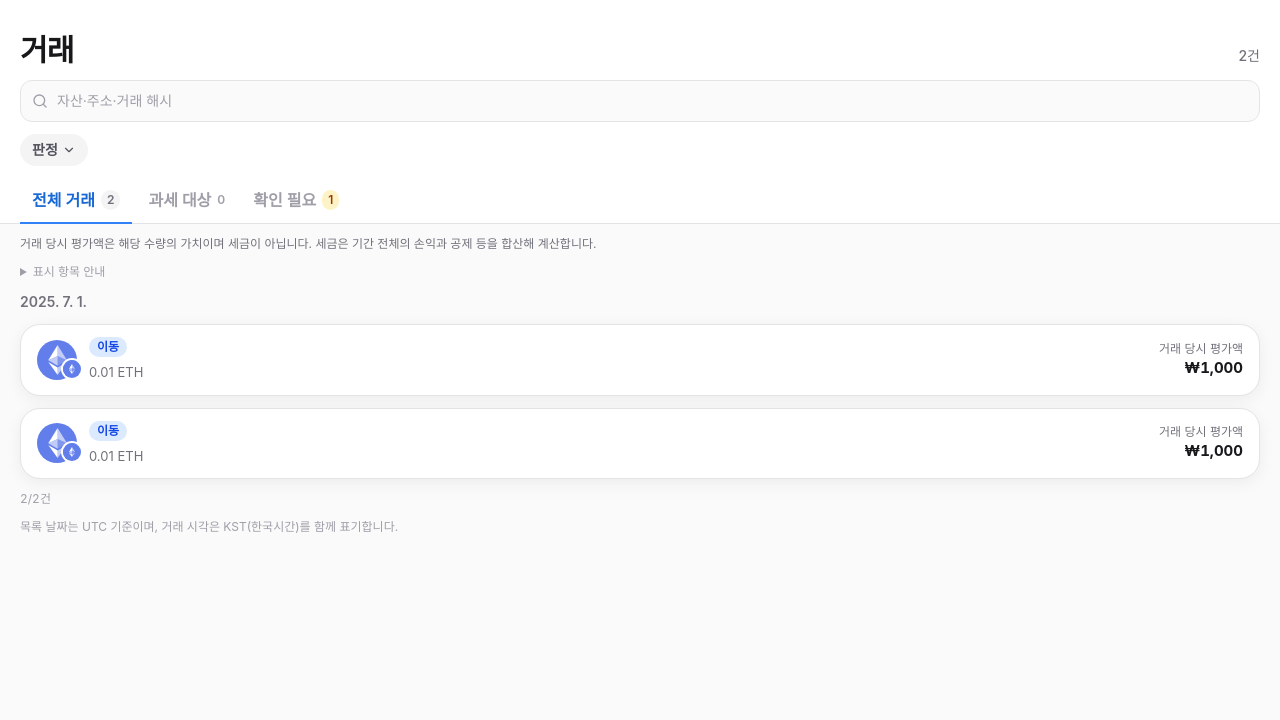
Test: 3차 리뷰 P1 경계 › 중복 레코드 상세는 내부 이체보다 중복을 먼저 말한다
Click the 2nd button "이동 0.01 ETH 거래 당시 평가액 ₩1,000".
click(57, 443)  # box 20,408 -> 1260,479
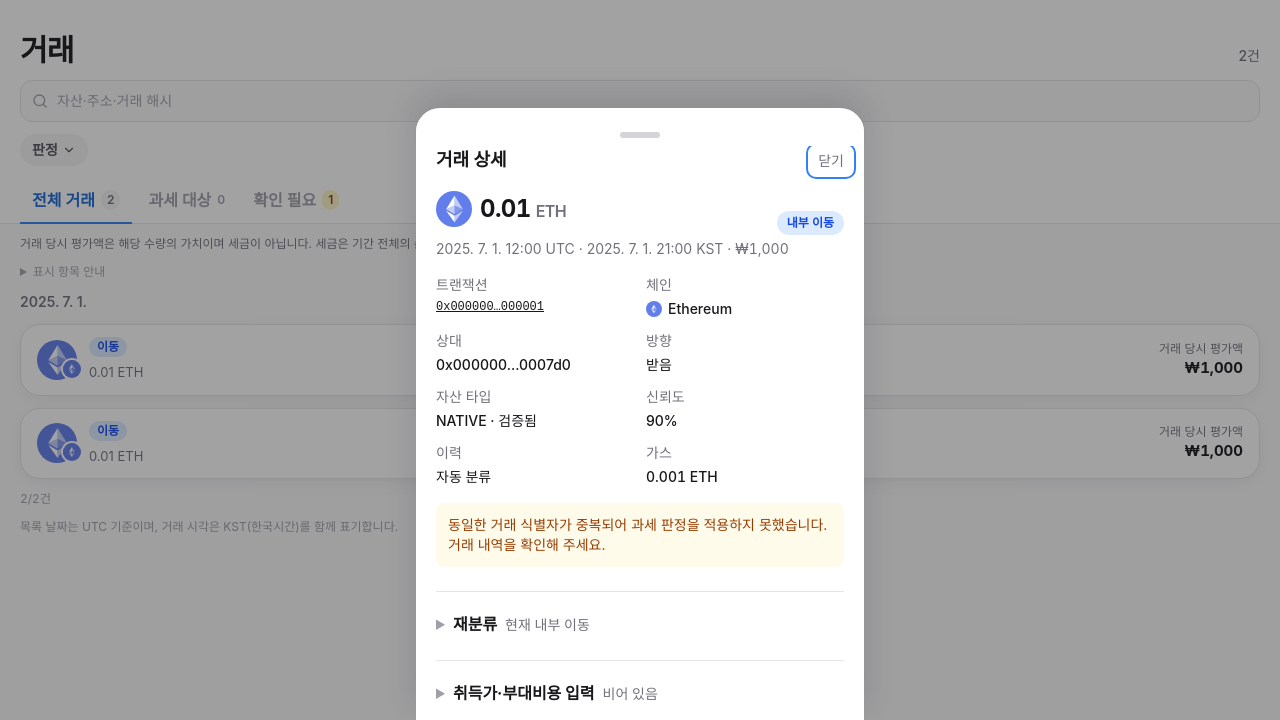
Check: the text "동일한 거래 식별자가 중복되어 과세 판정을 적용하지 못했습니다. 거래 내역을 확인해 주세요." is shown, box 436,503 -> 844,567
